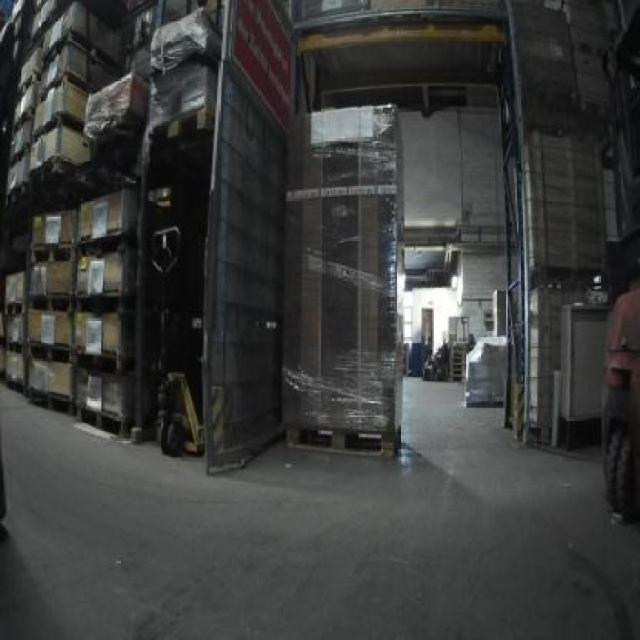floor: (0, 377, 637, 637)
pallets: (2, 186, 132, 431)
